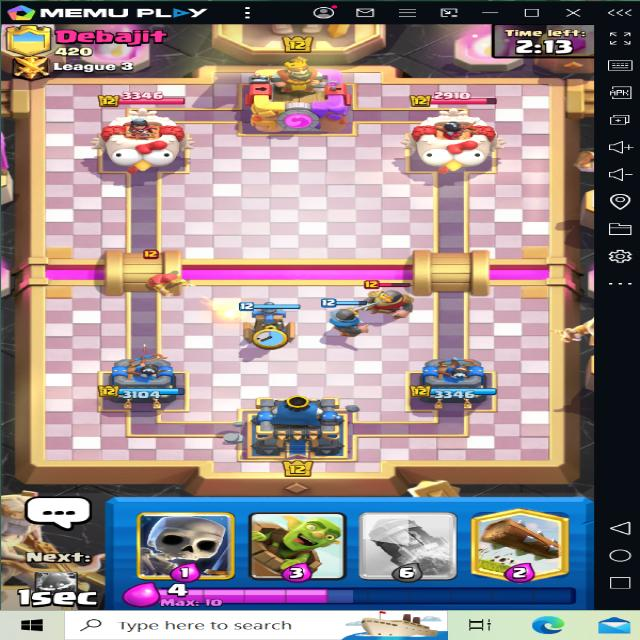Knight: (342, 272, 414, 322)
Wizard: (117, 248, 209, 307)
